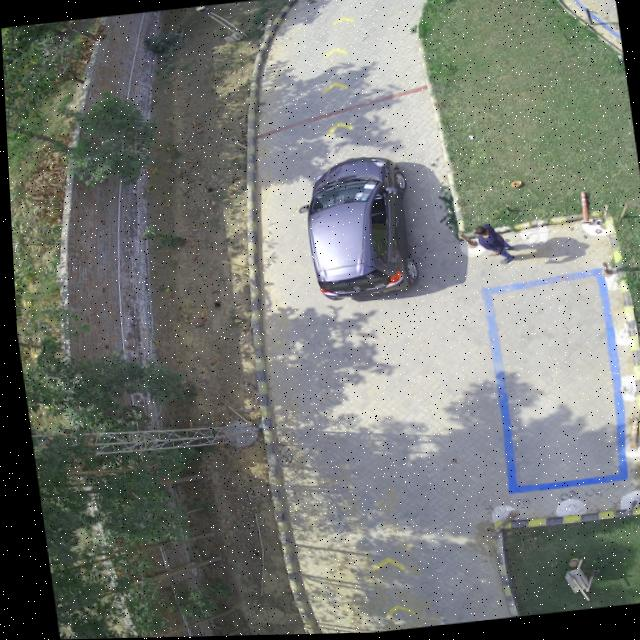car: (247, 0, 640, 635)
